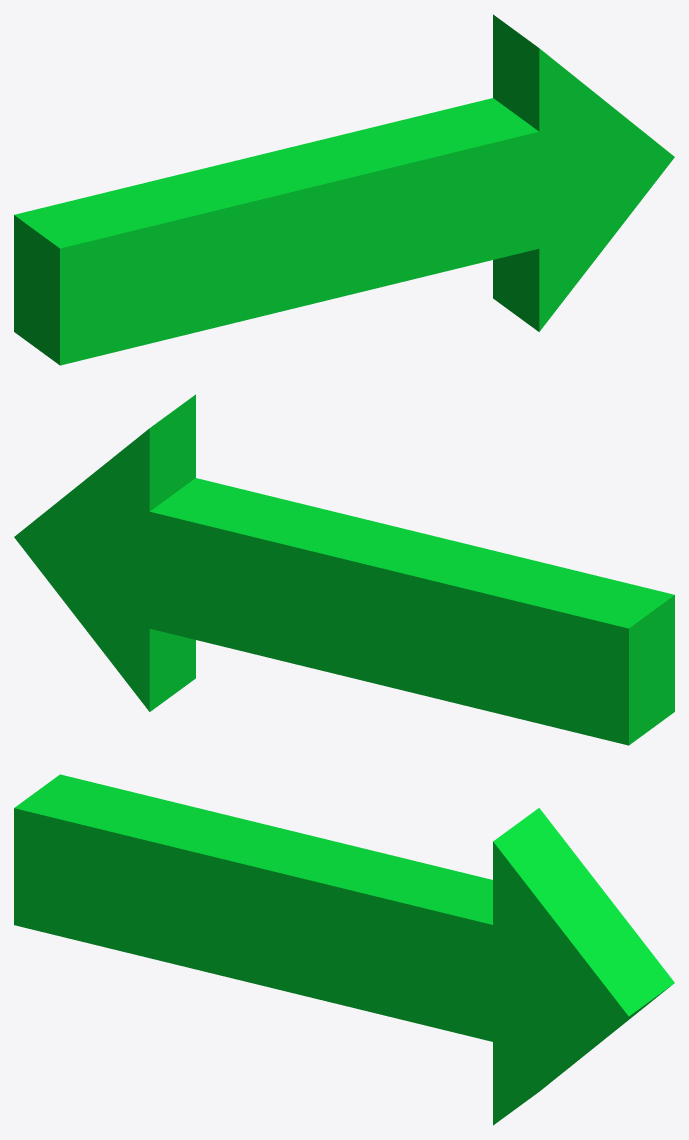
File: Arrow.fbx
3 views of the same model, one above another, from view 1: azimuth 30°, elevation 25°; view 2: azimuth 150°, elevation 25°; view 3: azimuth 330°, elevation 25° (orthographic).
Visible parts, largest first — view 1: Right Arrow Type1; view 2: Right Arrow Type1; view 3: Right Arrow Type1.
Boxes of the visible parts, left/top/right/bottom form: Right Arrow Type1: left=14, top=14, right=674, bottom=365; Right Arrow Type1: left=14, top=394, right=674, bottom=745; Right Arrow Type1: left=14, top=774, right=674, bottom=1125.
Size of the model in its own units: 7700 by 3400 by 1000.
